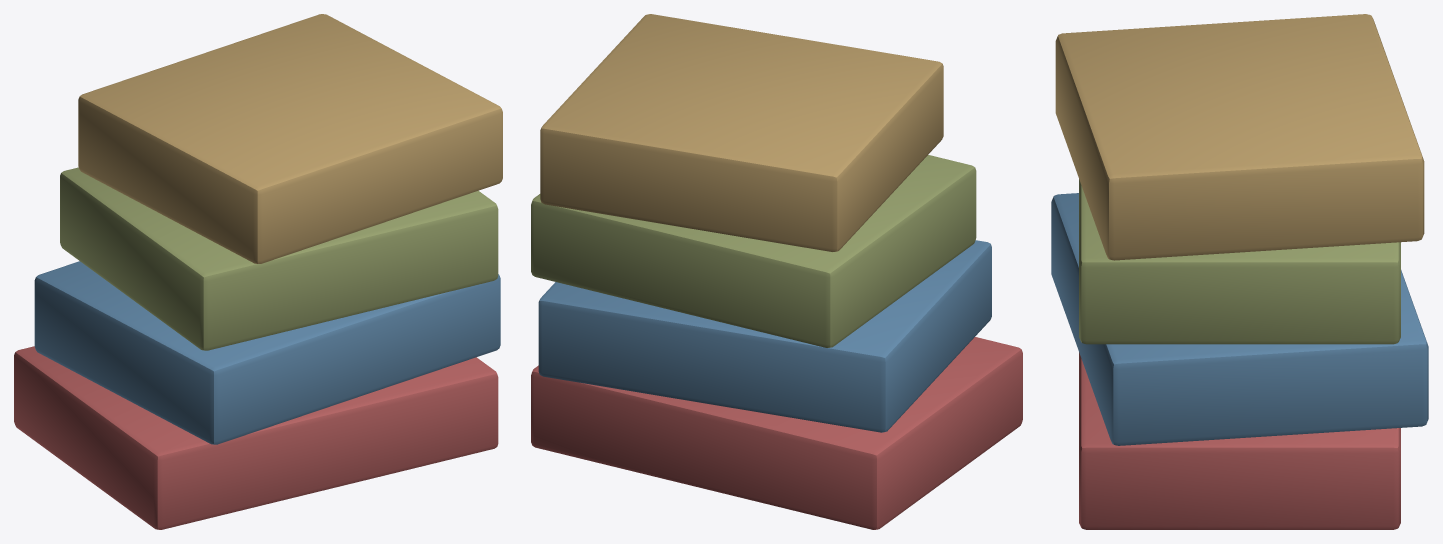
File: pilha_livros.glb
3 views of the same model, side by side, from view 1: azimuth 30°, elevation 25°; view 2: azimuth 150°, elevation 25°; view 3: azimuth 270°, elevation 25° (orthographic). The views are drawn at different scales.
Parts seen in each view (by area): view 1: Cube; view 2: Cube; view 3: Cube.
Boxes of the visible parts, x1,y1,x2,y2 form: Cube: (14,14,502,529); Cube: (531,14,1022,529); Cube: (1051,14,1428,529).
Bounding box in the file's own units: 0.3143 × 0.275 × 0.2579.
